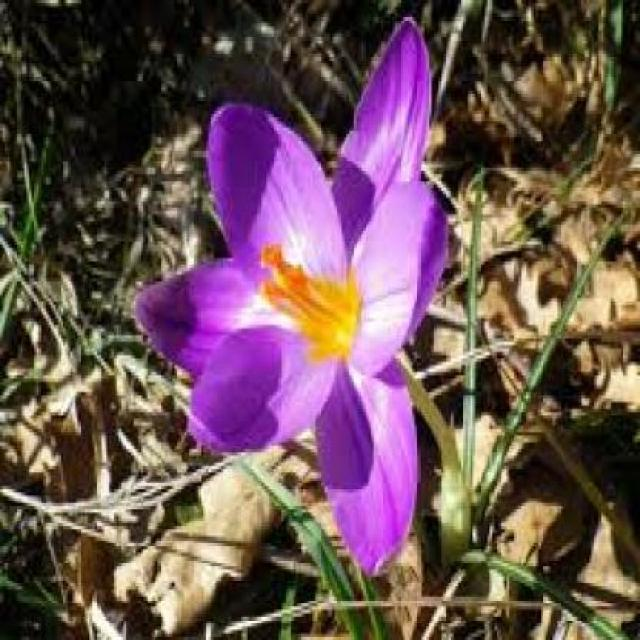saffron open: (135, 19, 446, 574), (137, 23, 444, 575)
